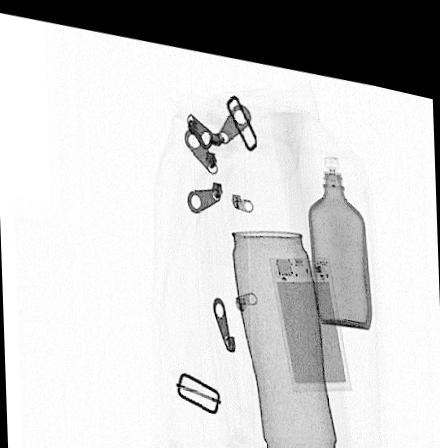Powerbank: (268, 241, 350, 378)
